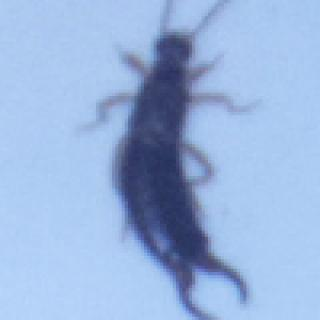earwig: (79, 0, 258, 320)
